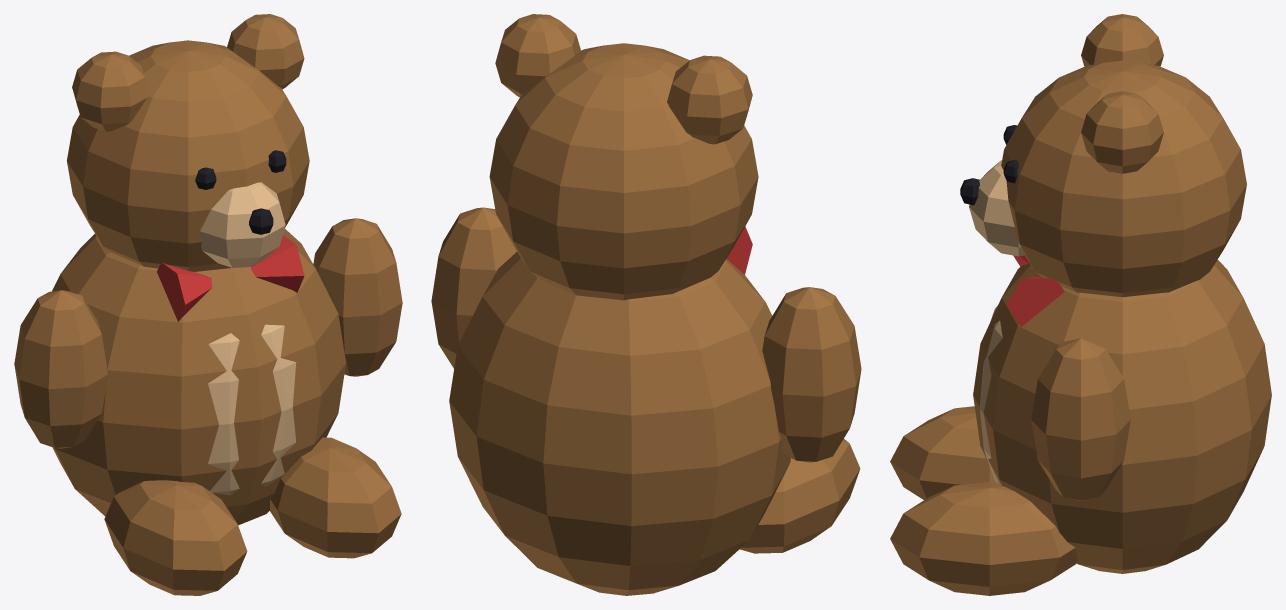
File: giant_teddy.glb
3 renders of one model, left to right at view 1: azimuth 30°, elevation 25°; view 2: azimuth 150°, elevation 25°; view 3: azimuth 270°, elevation 25°, orthographic. The views are drawn at different scales.
Visible parts, largest first — view 1: body_teddy_fur, head_teddy_fur, legs_teddy_fur, arms_teddy_fur, ears_teddy_fur, body_teddy_light, head_teddy_light, bow_fair_red (×2), eyes_ghost_dark; view 2: body_teddy_fur, head_teddy_fur, arms_teddy_fur, ears_teddy_fur, legs_teddy_fur, bow_fair_red; view 3: body_teddy_fur, head_teddy_fur, legs_teddy_fur, arms_teddy_fur, ears_teddy_fur, head_teddy_light, bow_fair_red, body_teddy_light, eyes_ghost_dark.
Boxes of the visible parts, <box> form: body_teddy_fur: <box>52,228,345,525</box>; head_teddy_fur: <box>67,40,309,271</box>; legs_teddy_fur: <box>104,437,401,595</box>; arms_teddy_fur: <box>14,218,402,448</box>; ears_teddy_fur: <box>72,14,304,131</box>; body_teddy_light: <box>208,324,296,495</box>; head_teddy_light: <box>200,182,285,267</box>; bow_fair_red (×2): <box>157,235,304,321</box>; eyes_ghost_dark: <box>195,150,286,234</box>; body_teddy_fur: <box>449,252,790,595</box>; head_teddy_fur: <box>489,43,758,300</box>; arms_teddy_fur: <box>431,207,861,462</box>; ears_teddy_fur: <box>495,14,752,144</box>; legs_teddy_fur: <box>740,439,860,553</box>; bow_fair_red: <box>726,226,752,274</box>; body_teddy_fur: <box>973,259,1271,573</box>; head_teddy_fur: <box>1001,60,1246,297</box>; legs_teddy_fur: <box>890,406,1077,595</box>; arms_teddy_fur: <box>1031,338,1130,500</box>; ears_teddy_fur: <box>1081,14,1163,173</box>; head_teddy_light: <box>969,160,1024,256</box>; bow_fair_red: <box>1006,277,1064,326</box>; body_teddy_light: <box>980,305,1002,482</box>; eyes_ghost_dark: <box>960,125,1018,205</box>.
Bounding box in the file's own units: 1.08 × 1.34 × 0.92.
